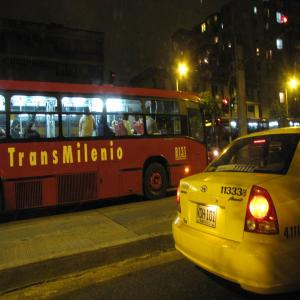Vehicle-registration-plate: (196, 203, 218, 227)
